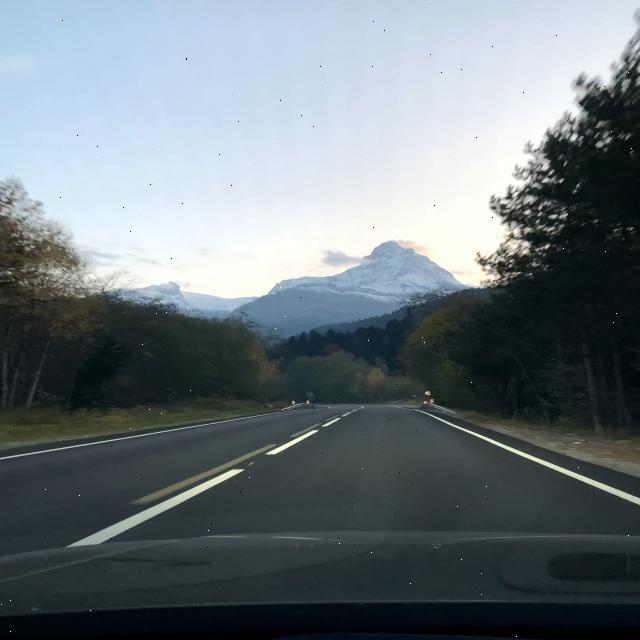lane: (416, 410, 639, 503), (70, 466, 243, 545), (267, 431, 314, 454)
road: (115, 406, 636, 540)
